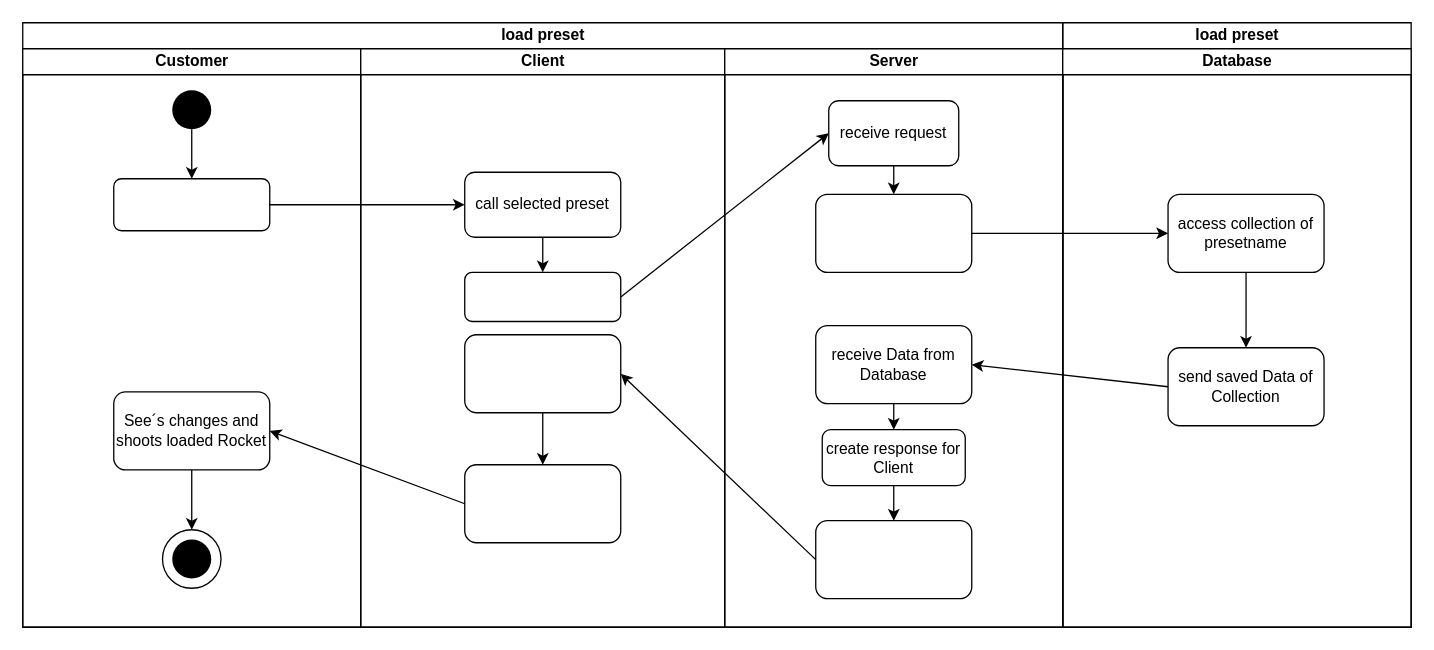
Image size: 1434x650. Some labels were removed from this diagram. The centre of each missing label's shape, as x and y in pixels:
receive response: [542,373]
request Database to look for presetName in collection: [893,232]
select preset from list: [191,204]
send request: [542,296]
send response: [893,559]
Set FormData Elements to received Values: [542,503]
